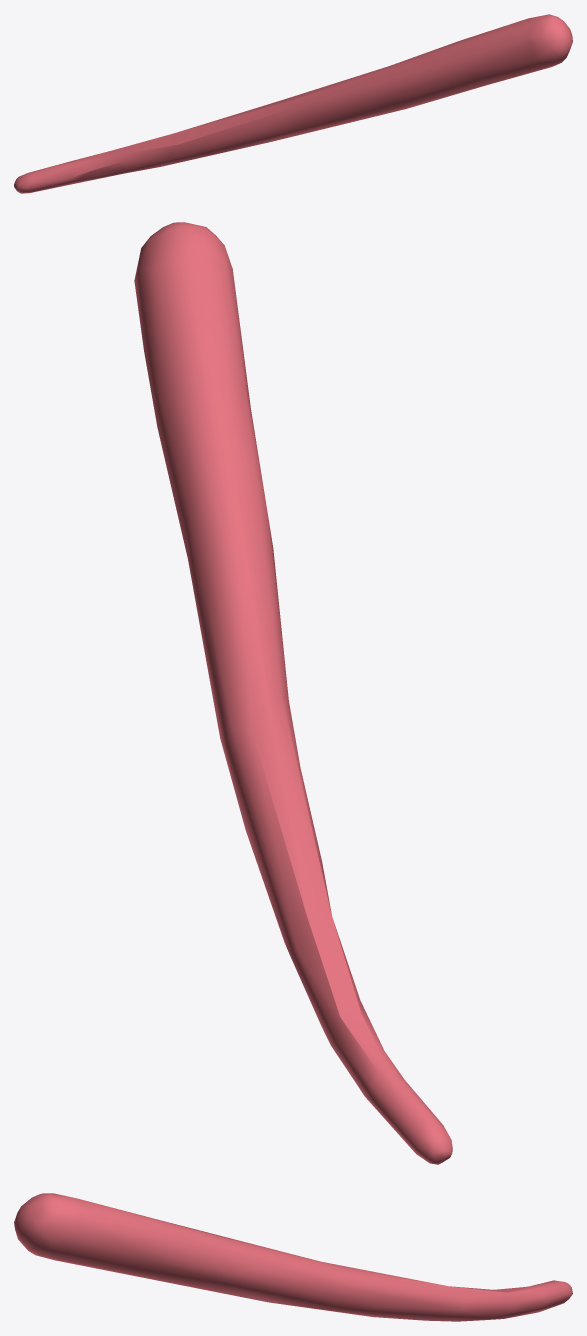
The model's file is fma8673_fj3049.glb.
3 renders of one model, top to bottom at view 1: azimuth 30°, elevation 25°; view 2: azimuth 150°, elevation 25°; view 3: azimuth 270°, elevation 25°, orthographic. The views are drawn at different scales.
Parts seen in each view (by area): view 1: FMA8673_FJ3049; view 2: FMA8673_FJ3049; view 3: FMA8673_FJ3049.
Boxes of the visible parts, x1,y1,x2,y2 form: FMA8673_FJ3049: (14,14,572,193); FMA8673_FJ3049: (134,222,452,1164); FMA8673_FJ3049: (14,1193,572,1321).
Bounding box in the file's own units: 0.0429 × 0.0281 × 0.0458.
